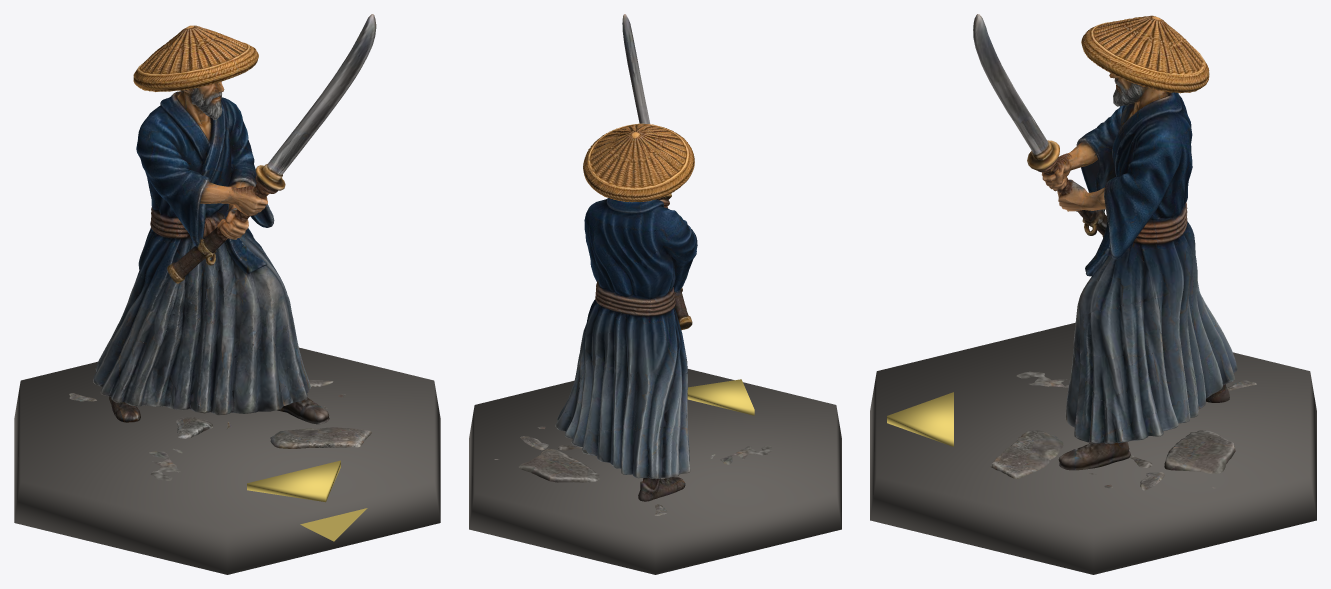
Rendered from yojimbo.glb.
The picture shows the model from 3 angles, left to right: view 1: azimuth 30°, elevation 25°; view 2: azimuth 150°, elevation 25°; view 3: azimuth 270°, elevation 25°; orthographic projection. The views are drawn at different scales.
Parts seen in each view (by area): view 1: Miniatura; view 2: Miniatura; view 3: Miniatura.
Part boxes in pixels (x1=…): Miniatura: x1=14, y1=14, x2=440, y2=574; Miniatura: x1=469, y1=14, x2=841, y2=574; Miniatura: x1=870, y1=14, x2=1316, y2=574.
Size of the model in its own units: 2 by 2.13 by 1.73.
Materials: 3 (1 with a texture image).
